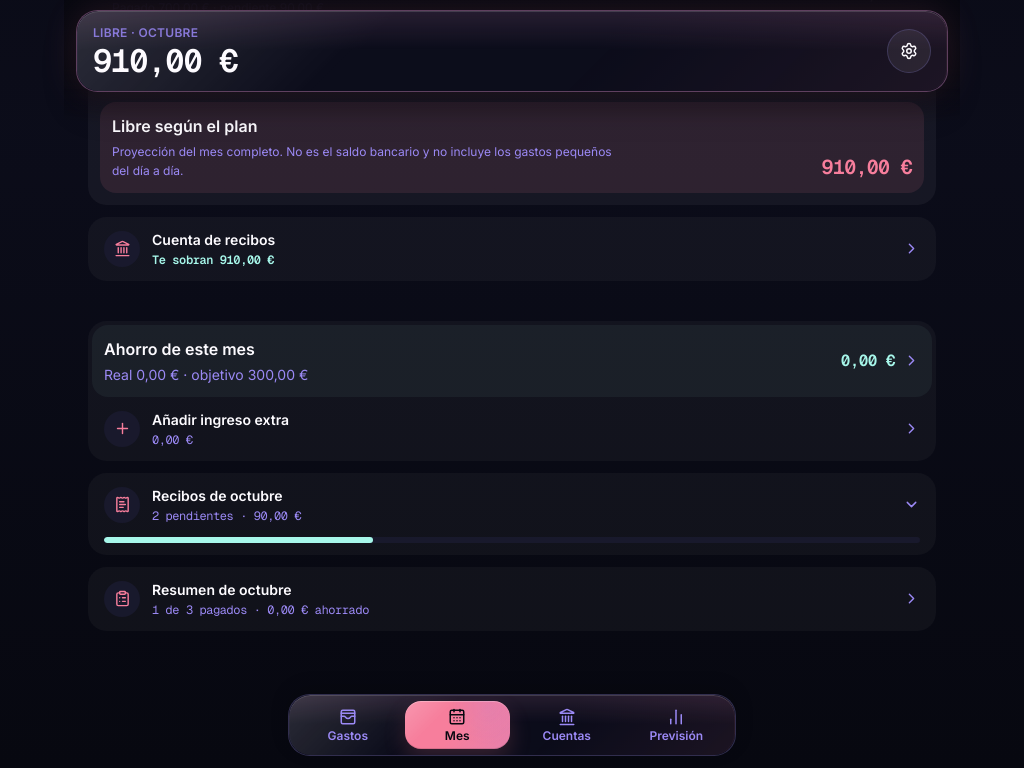
Test: MonthDashboard › keeps the month's bills folded and pays from the list, pending first
(page scrolled)
Click the button "Recibos de octubre 2 pendientes · 90,00 €": (122, 505) [92,477,932,533]
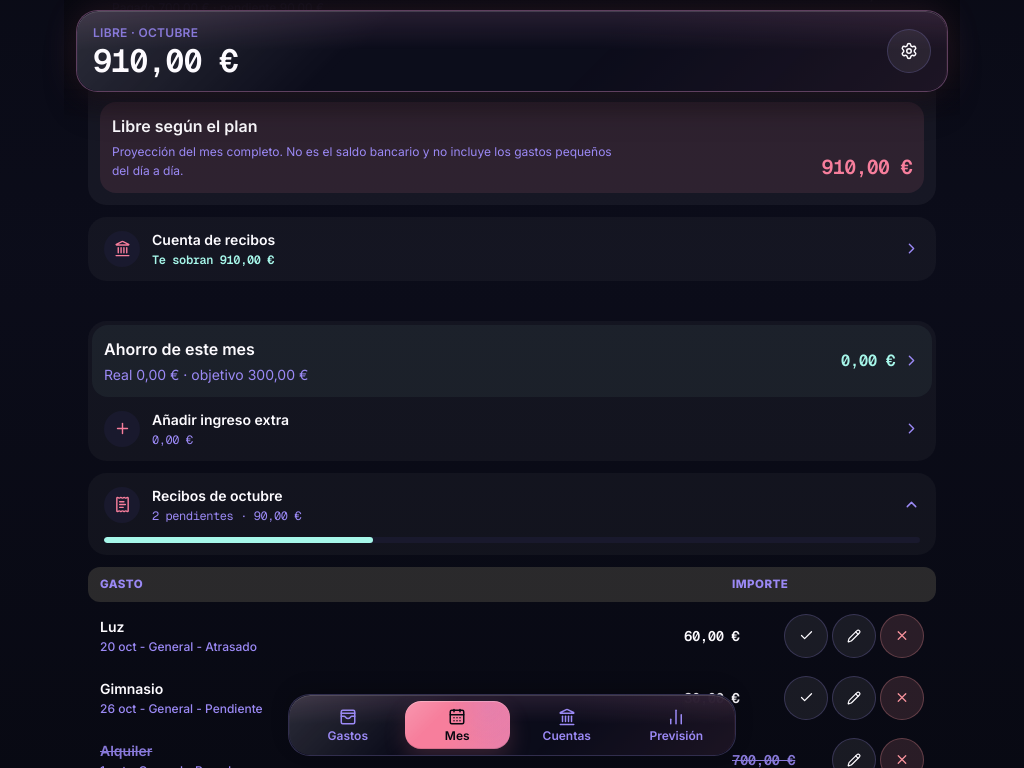
Result: the button "Recibos de octubre 2 pendientes · 90,00 €" is expanded at [92,477,932,533]
Result: the element with class "app-monthly-expense-row" shows "Luz" at [100,618,124,635]
Result: the element with class "app-monthly-expense-row" shows "Gimnasio" at [100,680,163,697]
Click the button named "Marcar Luz como pagado": (806, 636) [784,614,828,658]
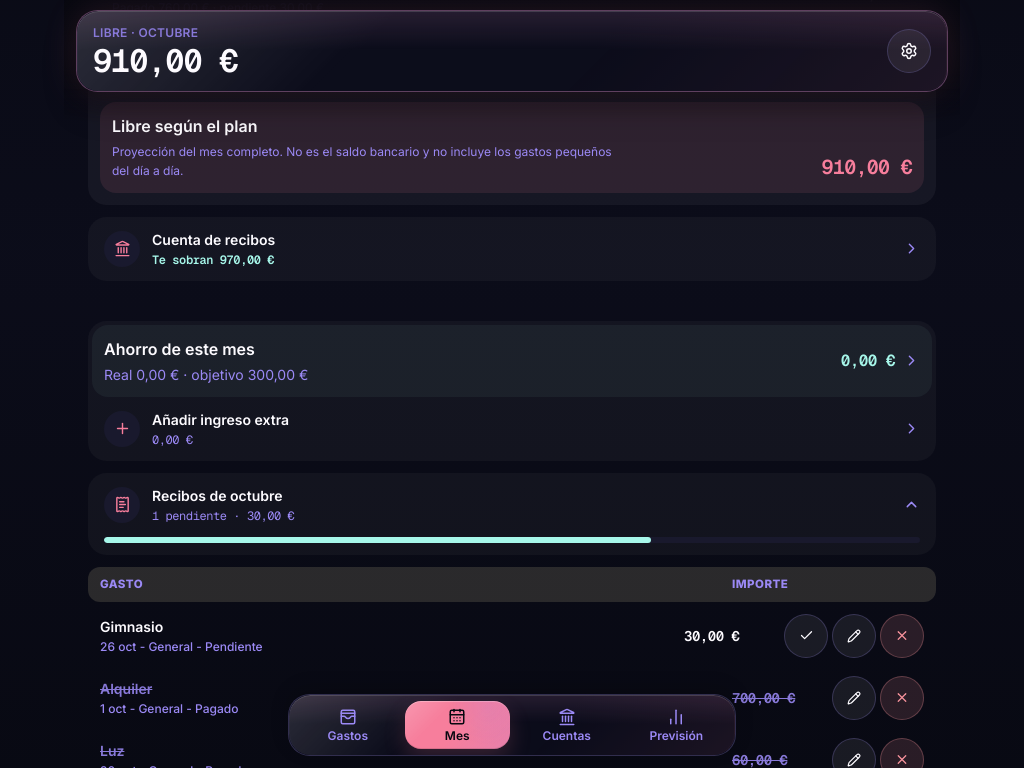
Result: the button "Recibos de octubre 1 pendiente · 30,00 €" is shown at [92,477,932,533]
